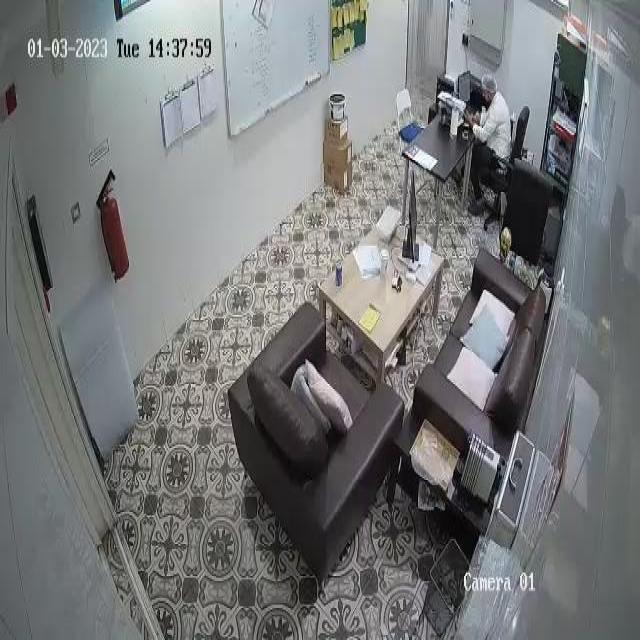hairnet: (478, 74, 499, 93)
